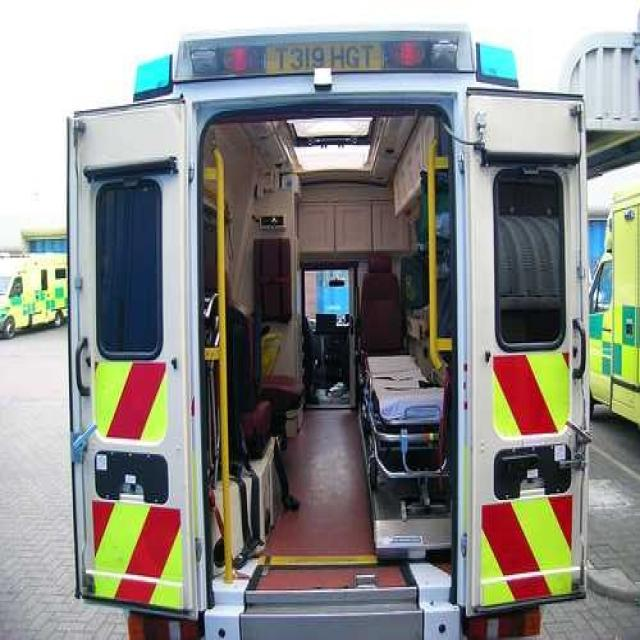ambulance: (56, 23, 601, 640)
